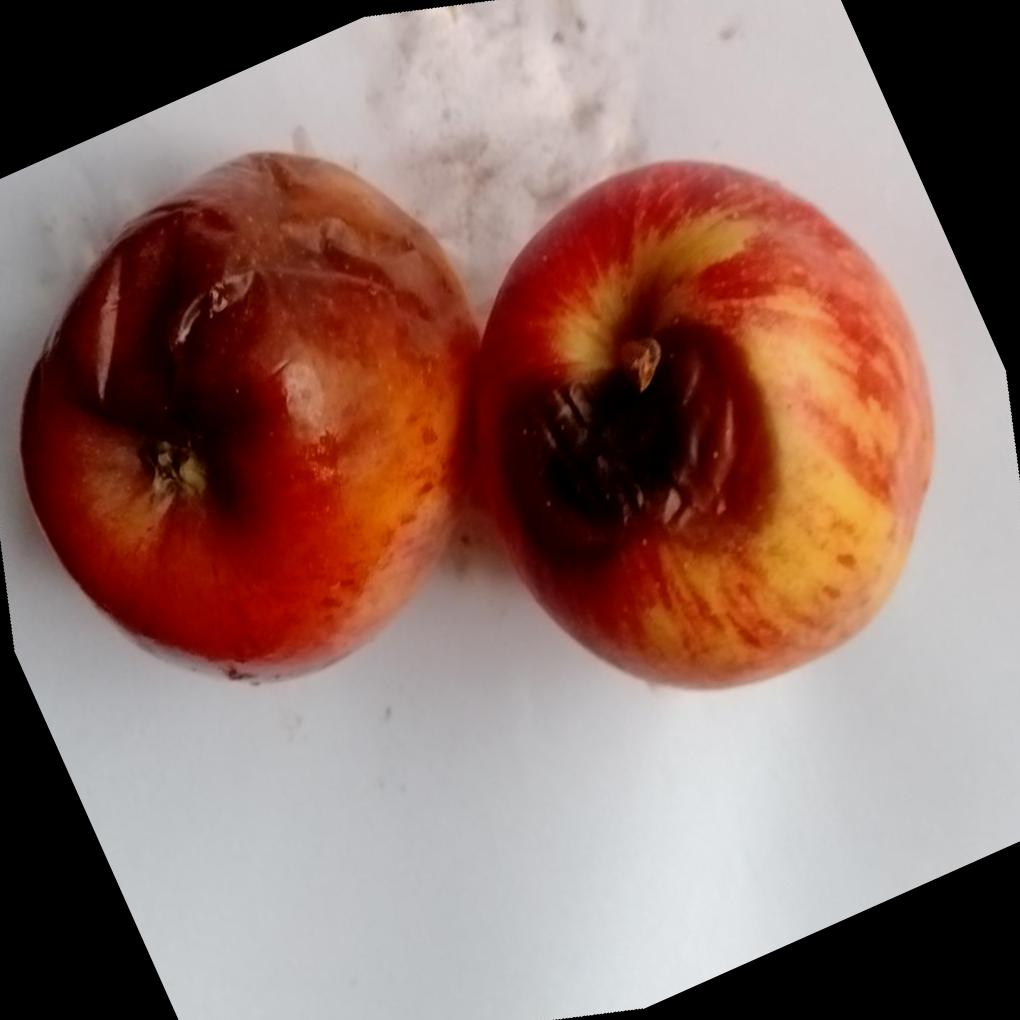FreshOrange: (19, 151, 938, 696)
